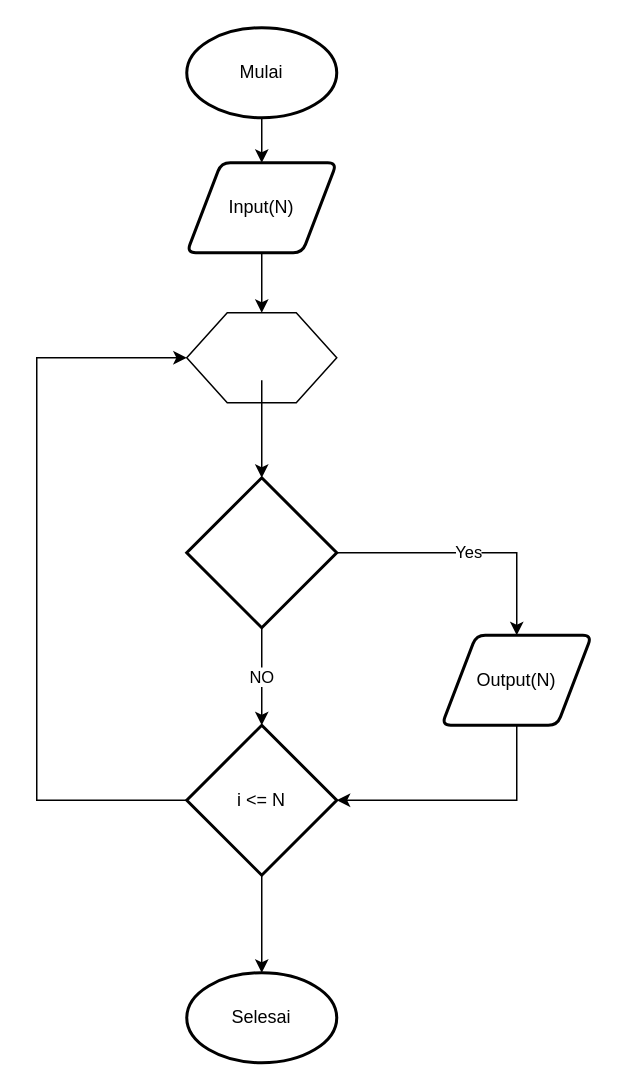
Image size: 620x1089. Some labels were removed from this diagram. The centre of each missing label's shape, as x and y in pixels:
i = 1 to N: pixel 261 357
N % i == 0: pixel 261 552
